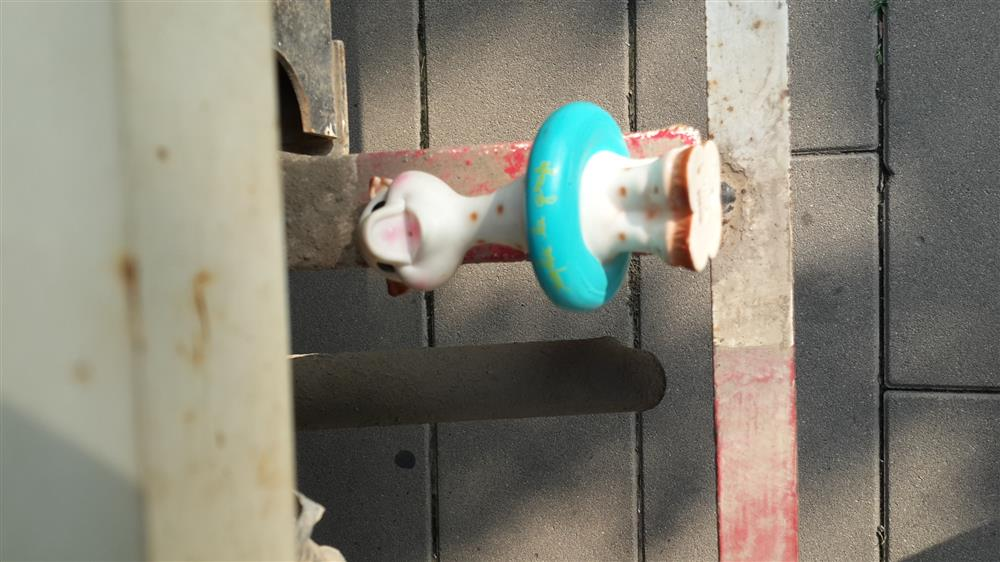toy_deer: (345, 93, 733, 303)
